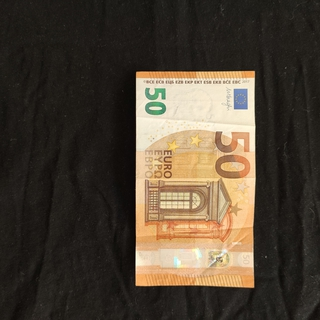50EUROFront: (135, 70, 256, 289)
